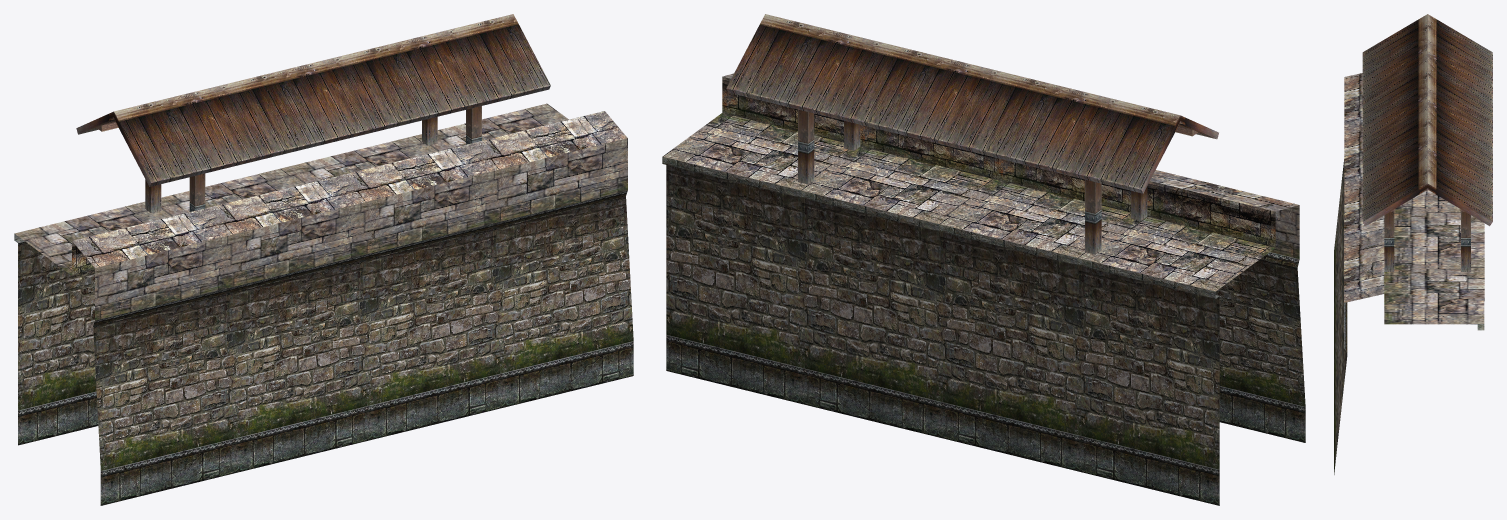
The model's file is tn4_wall01.glb.
3 views of the same model, side by side, from view 1: azimuth 30°, elevation 25°; view 2: azimuth 150°, elevation 25°; view 3: azimuth 270°, elevation 25° (orthographic). The views are drawn at different scales.
Visible parts, largest first — view 1: tn4_wall01; view 2: tn4_wall01; view 3: tn4_wall01.
Part boxes in pixels (x1,y1,x2,y2): tn4_wall01: (14,14,633,505); tn4_wall01: (662,14,1305,505); tn4_wall01: (1334,14,1492,474).
Bounding box in the file's own units: 16 × 9.72 × 4.75.
Materials: 7 (7 with a texture image).
